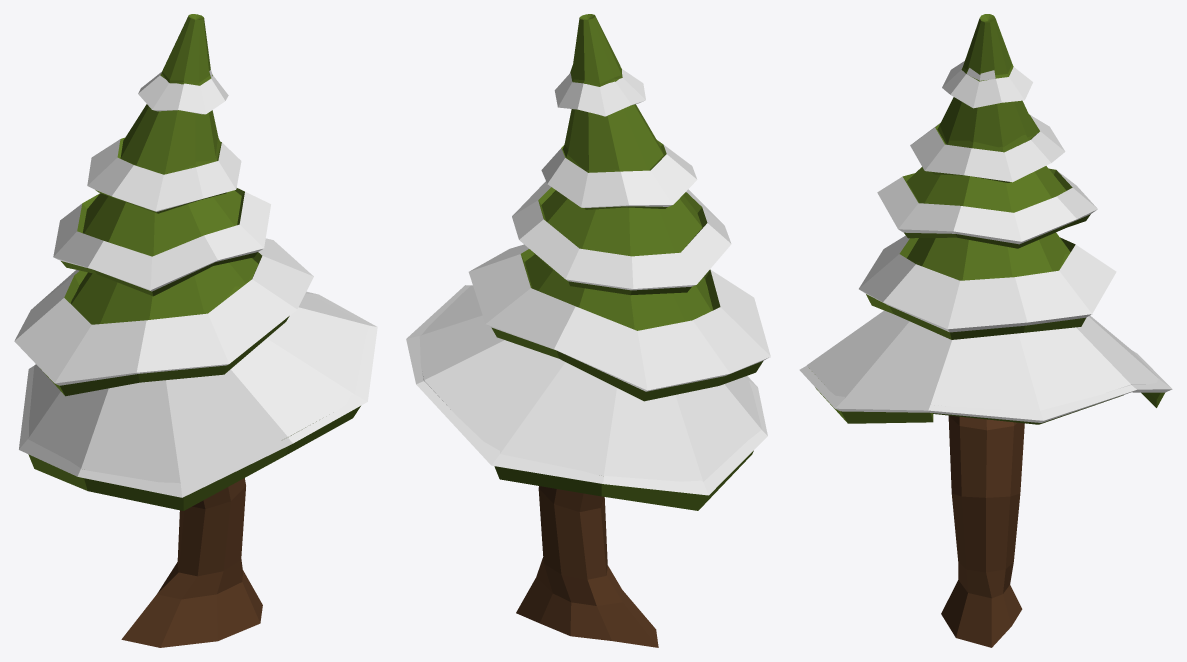
Rendered from tree5.glb.
3 views of the same model, side by side, from view 1: azimuth 30°, elevation 25°; view 2: azimuth 150°, elevation 25°; view 3: azimuth 270°, elevation 25° (orthographic). The views are drawn at different scales.
Visible parts, largest first — view 1: Leaves_1, Trunk_0; view 2: Leaves_1, Trunk_0; view 3: Leaves_1, Trunk_0.
Boxes of the visible parts, x1=… form: Leaves_1: x1=14, y1=14, x2=377, y2=510; Trunk_0: x1=121, y1=478, x2=262, y2=647; Leaves_1: x1=406, y1=14, x2=770, y2=510; Trunk_0: x1=516, y1=486, x2=658, y2=647; Leaves_1: x1=799, y1=14, x2=1172, y2=424; Trunk_0: x1=941, y1=415, x2=1024, y2=647.
Bounding box in the file's own units: 2.09 × 3.87 × 2.19.
